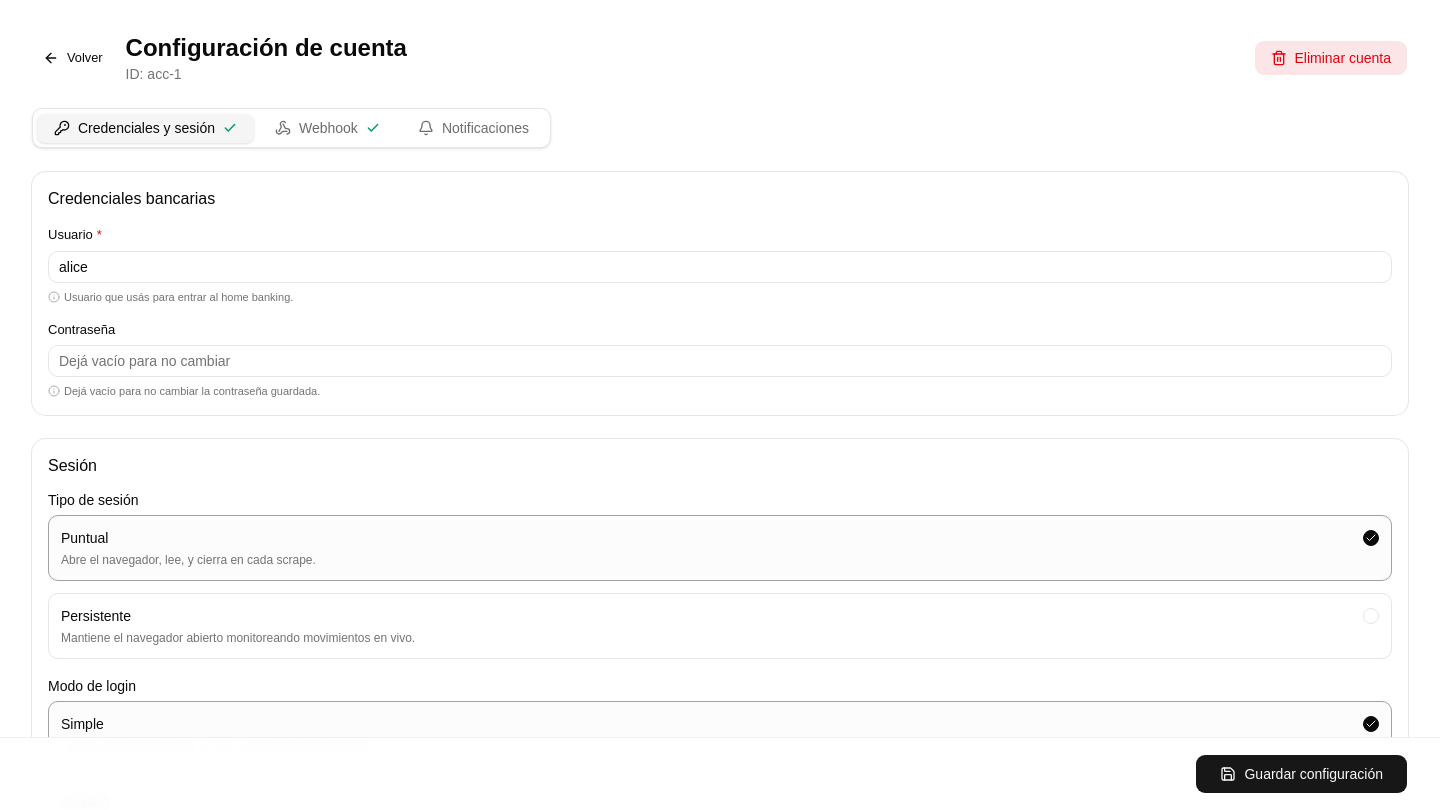
Test case: AccountConfig page › dismisses the server-error banner when the Cerrar button is clicked
This screenshot has width=1440, height=810.
Expected: the heading "Configuración de cuenta" is shown, [126,32,407,64]
Click the button "Guardar configuración".
click(1302, 774)  # box [1196,754,1408,794]
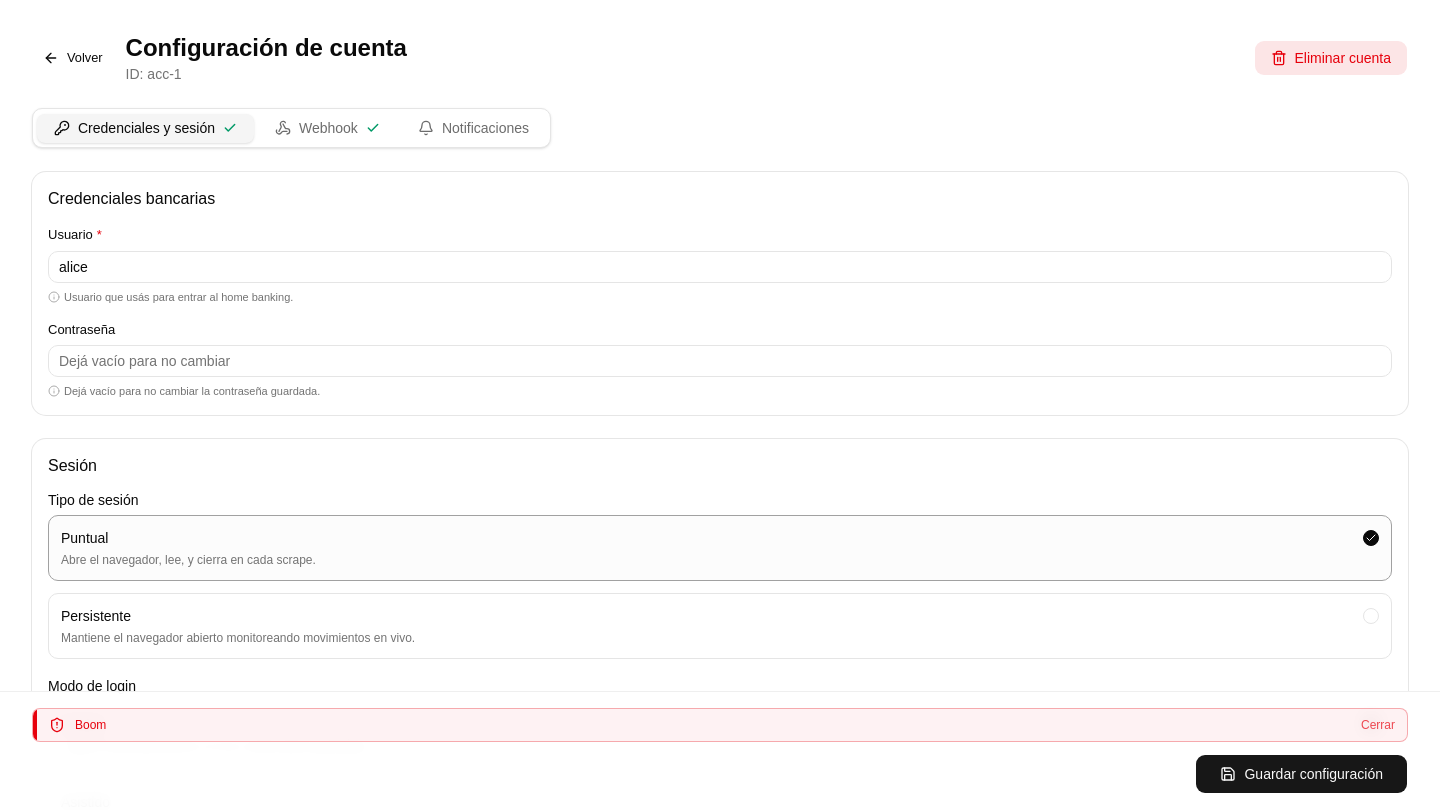
Expected: the text "Boom" is shown, [75,718,106,732]
Click the button "Cerrar".
click(1378, 725)  # box [1361,717,1395,733]
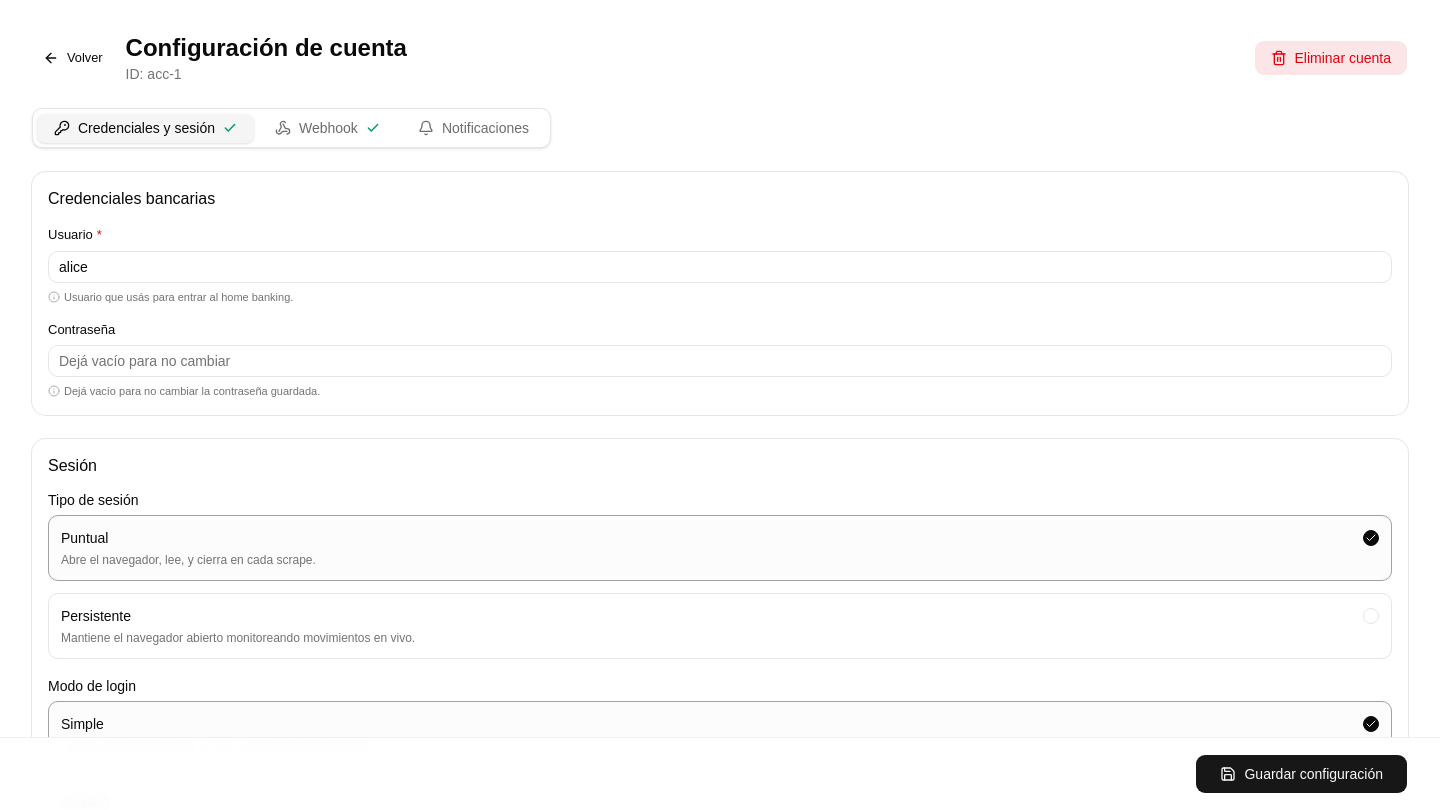
Expected: the text "Boom" is gone
